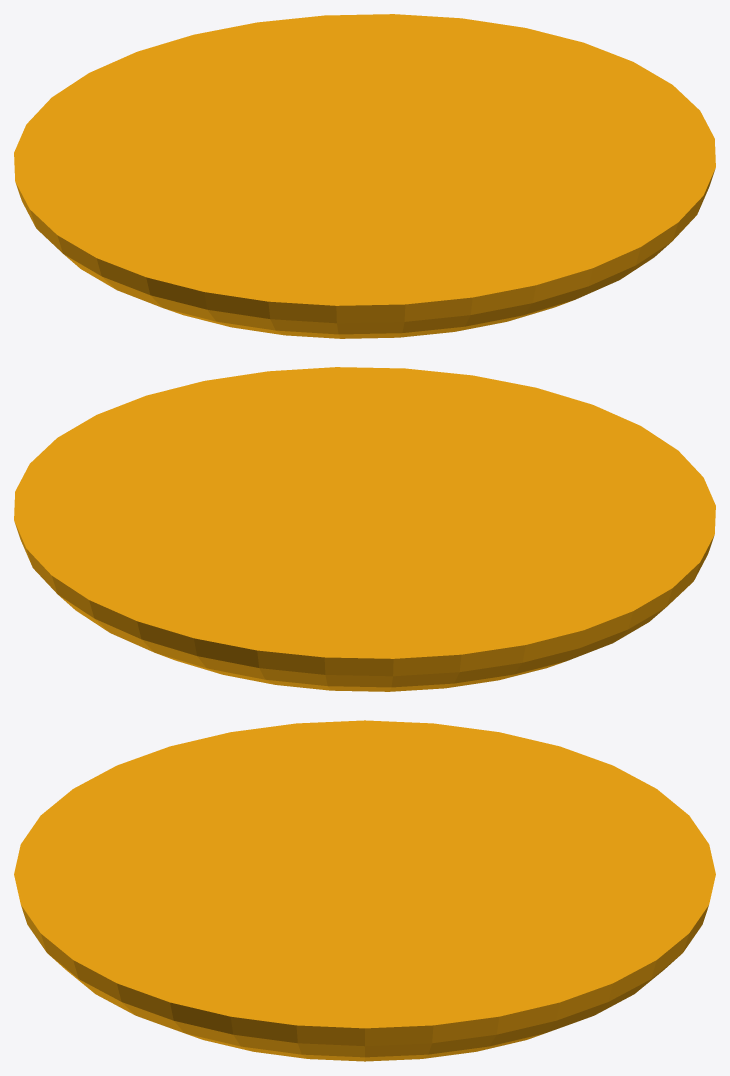
File: BottomBun.fbx
3 renders of one model, top to bottom at view 1: azimuth 30°, elevation 25°; view 2: azimuth 150°, elevation 25°; view 3: azimuth 270°, elevation 25°, orthographic. The views are drawn at different scales.
Parts seen in each view (by area): view 1: Sphere.001; view 2: Sphere.001; view 3: Sphere.001.
Part boxes in pixels (x1,y1,x2,y2): Sphere.001: [14, 14, 715, 338]; Sphere.001: [14, 367, 715, 691]; Sphere.001: [14, 720, 715, 1061].
Bounding box in the file's own units: 180 × 29.01 × 174.
